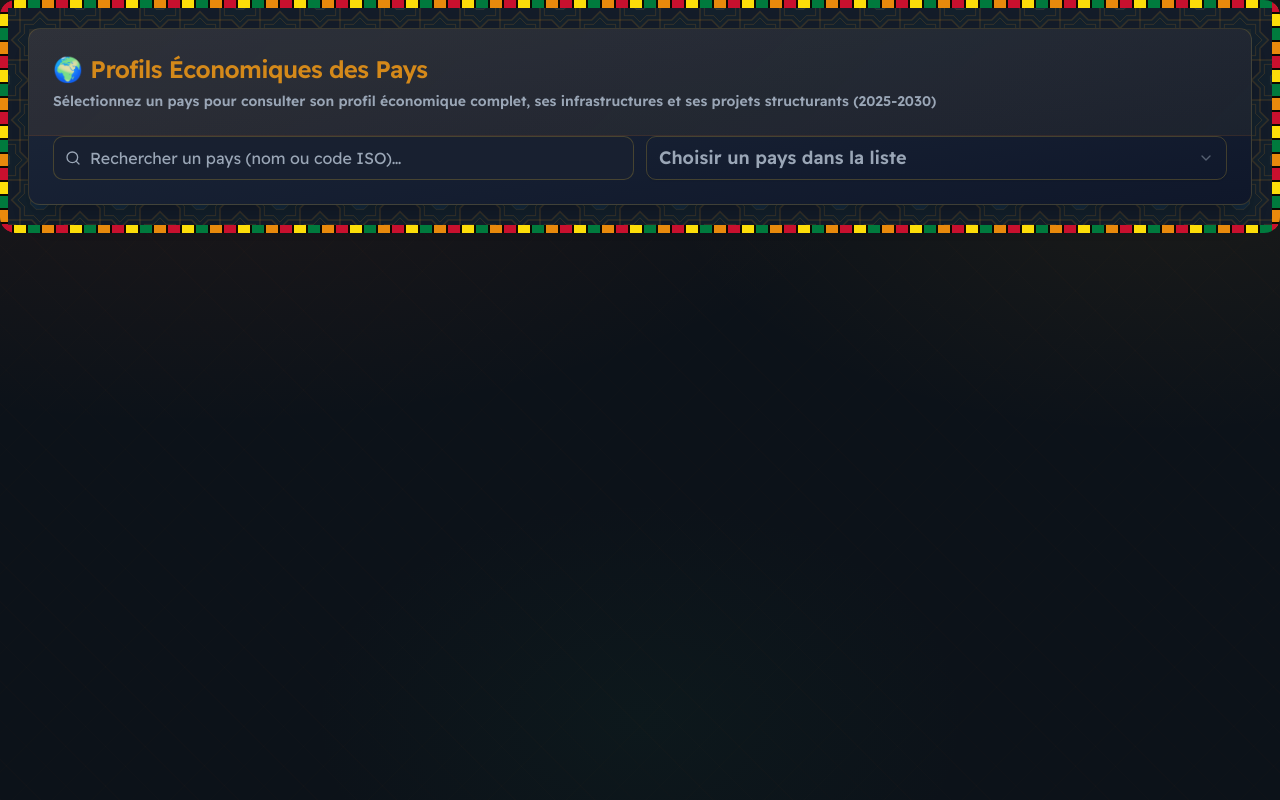
Test: Profils Pays — classement africain et années réelles › affiche le rang africain avec son dénominateur et les vraies années
In the dropdown labelled "Rechercher un pays": coordinates (344, 158) [53,136,634,180], type "alg"
Then press Enter
(page scrolled)
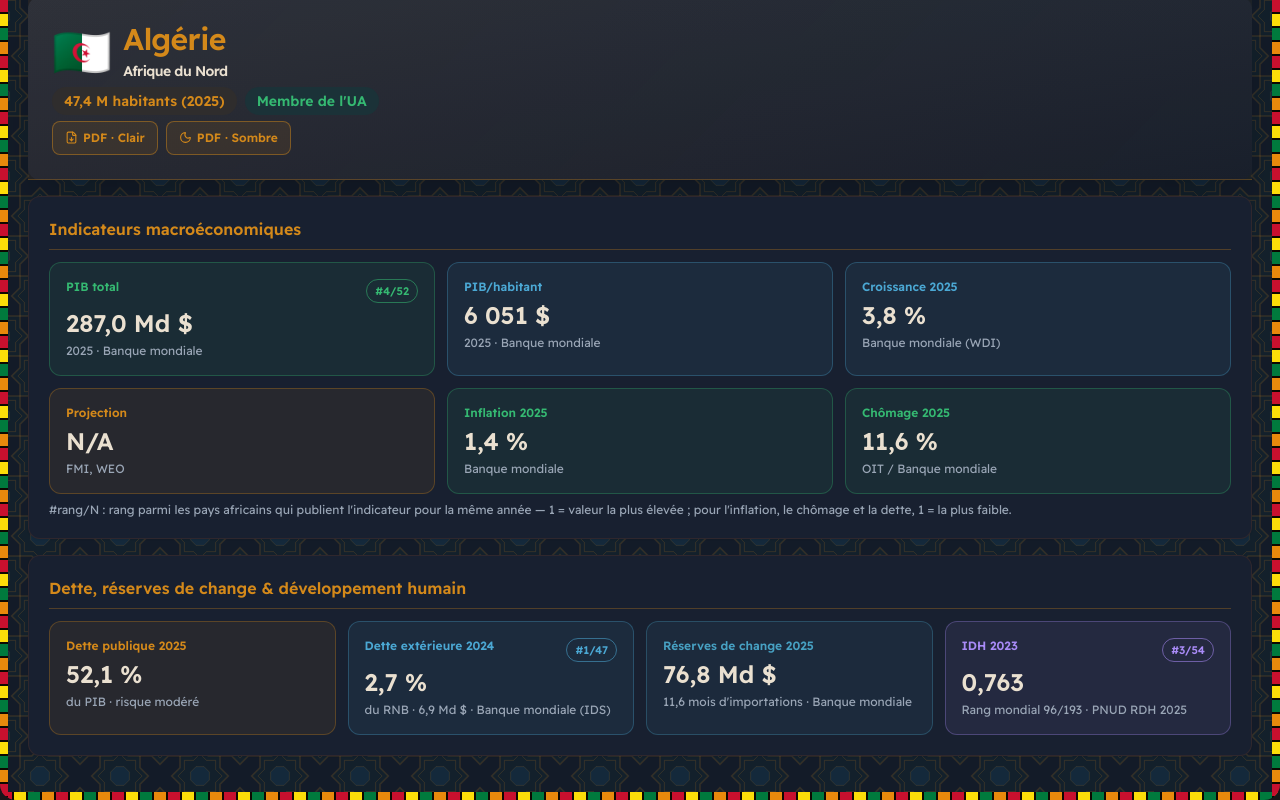
Check: the text named "Rang Afrique 2025 : 4/52" reads "#4/52", box [366,279,418,303]
Check: the text named "Rang Afrique 2023 : 3/54" reads "#3/54", box [1162,638,1214,662]
Check: the text "Croissance 2025" is shown, box [862,279,958,295]
